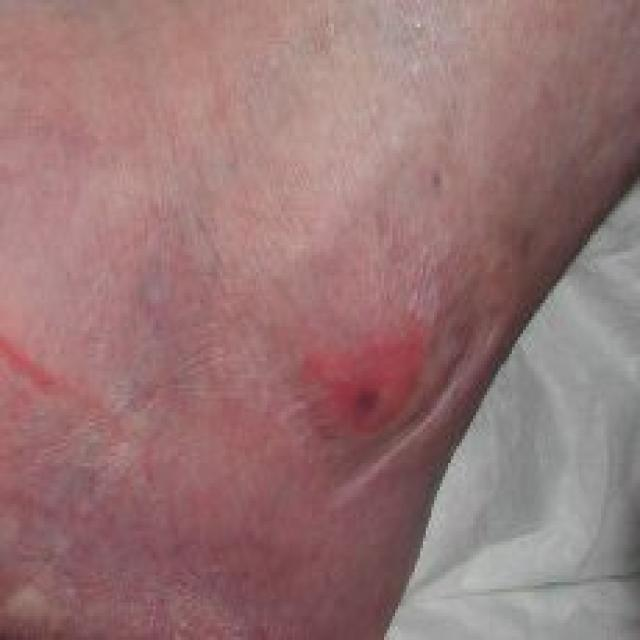stage-1: (314, 330, 419, 430)
